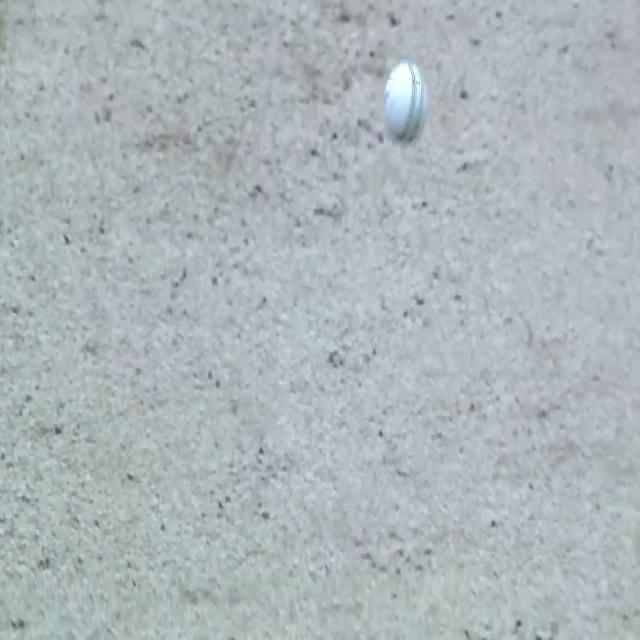ball: (384, 55, 434, 147)
